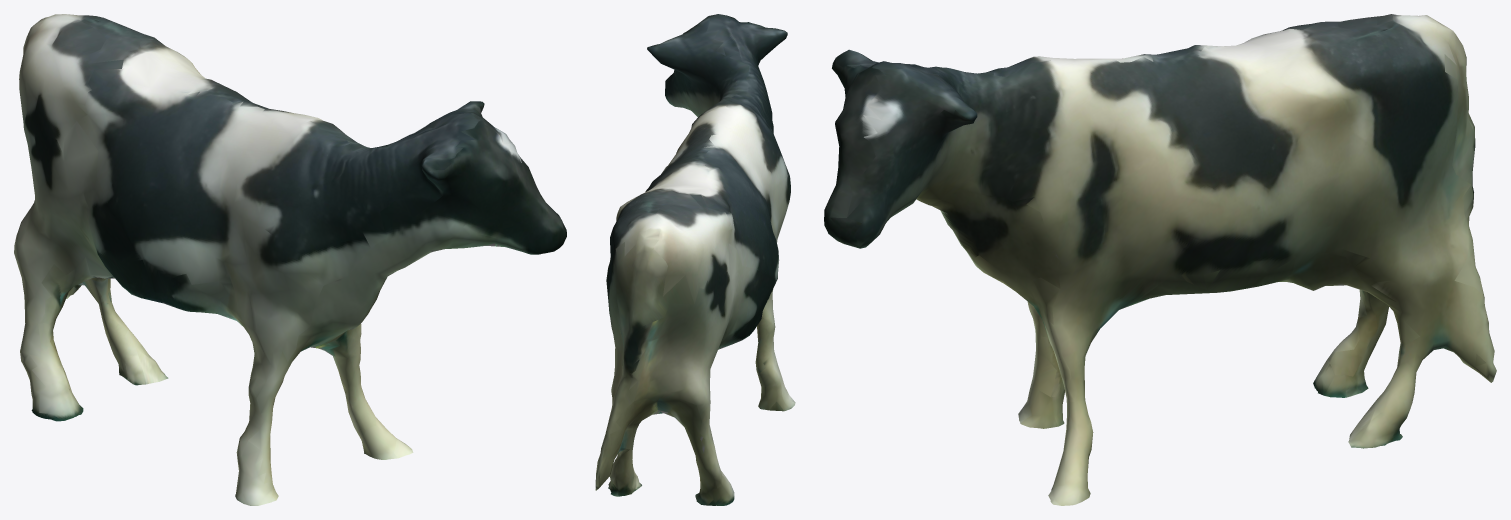
File: Cattle_typ1.glb
3 views of the same model, side by side, from view 1: azimuth 30°, elevation 25°; view 2: azimuth 150°, elevation 25°; view 3: azimuth 270°, elevation 25° (orthographic). The views are drawn at different scales.
Parts seen in each view (by area): view 1: Component#57; view 2: Component#57; view 3: Component#57.
Part boxes in pixels (x1,y1,x2,y2): Component#57: (14,14,566,505); Component#57: (595,14,795,505); Component#57: (824,14,1496,505).
Bounding box in the file's own units: 1.3 × 1.61 × 2.29.
7 materials, 5 textured.
